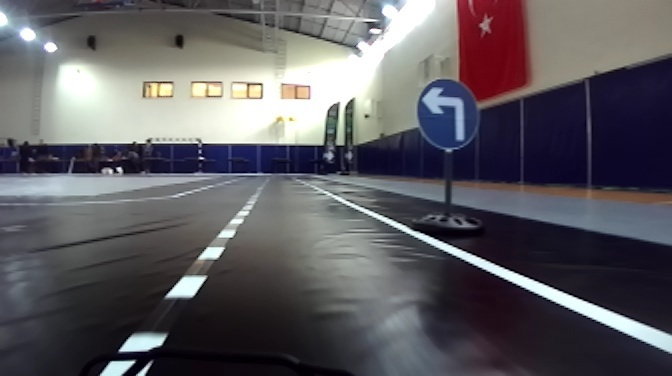sola_donus: (415, 78, 481, 150)
